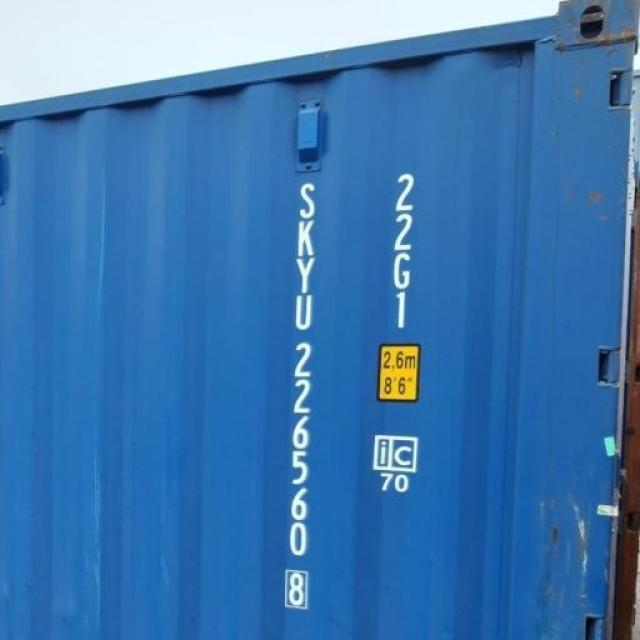ISO: (377, 173, 417, 334)
container_number: (278, 166, 323, 624)
